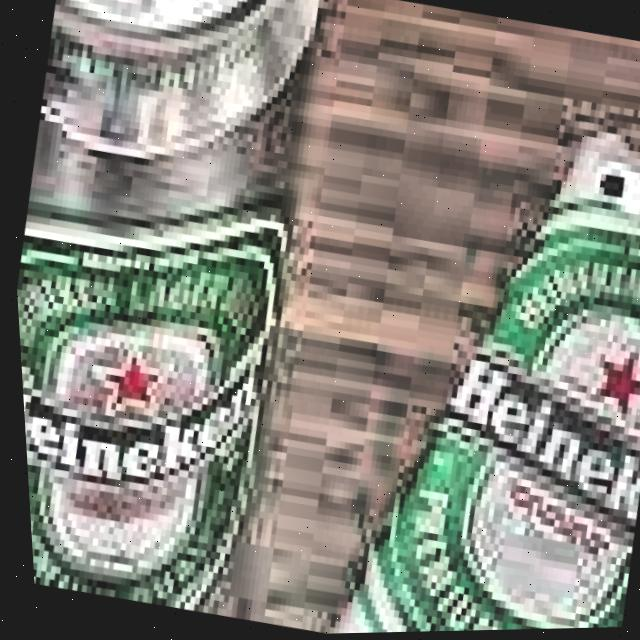metal: (0, 0, 382, 629)
